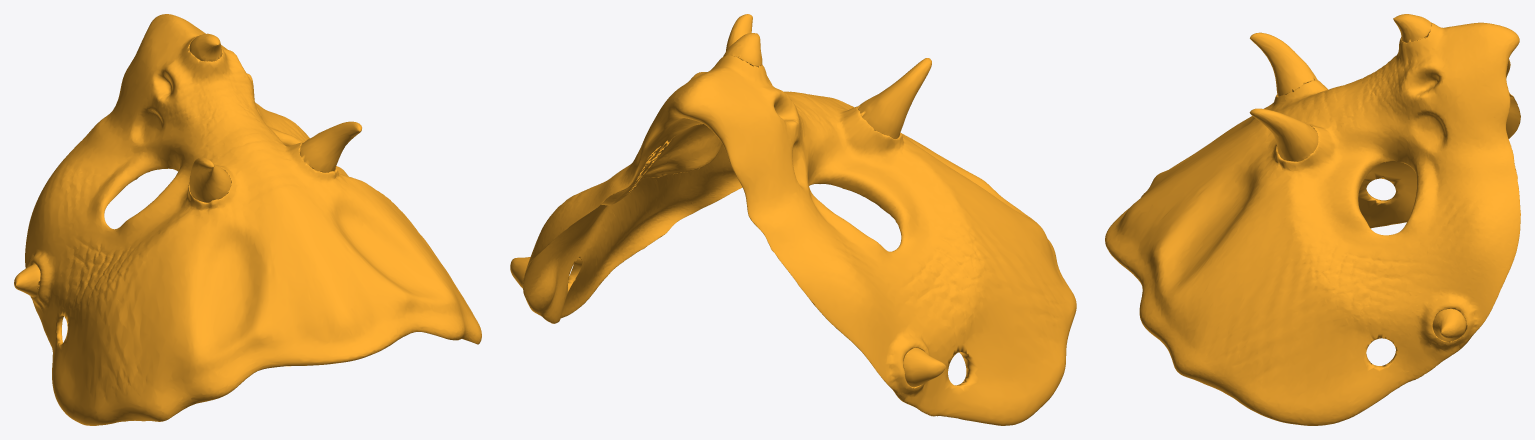
File: Triceratops.glb
3 views of the same model, side by side, from view 1: azimuth 30°, elevation 25°; view 2: azimuth 150°, elevation 25°; view 3: azimuth 270°, elevation 25° (orthographic). The views are drawn at different scales.
Parts seen in each view (by area): view 1: VipLionMask; view 2: VipLionMask; view 3: VipLionMask.
Part boxes in pixels (box(x1,y1,x2,y2)): VipLionMask: box(14, 14, 481, 425); VipLionMask: box(510, 14, 1076, 425); VipLionMask: box(1105, 14, 1520, 425).
Size of the model in its own units: 166 by 128 by 152.
